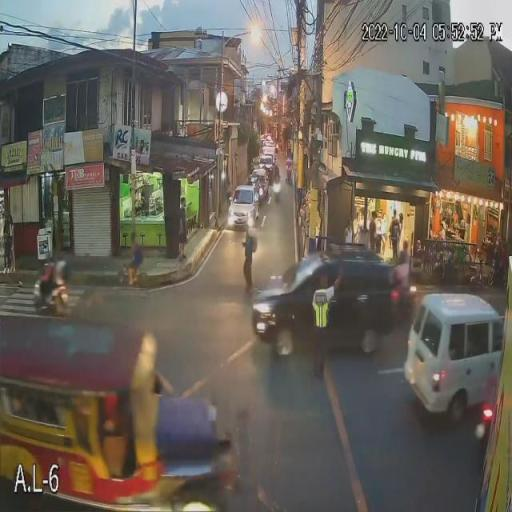helmet: (396, 252, 407, 266), (55, 252, 67, 264), (46, 257, 52, 268)
motorcycle: (31, 275, 78, 316)
rider: (392, 256, 410, 301), (54, 253, 68, 292), (40, 258, 53, 298)
